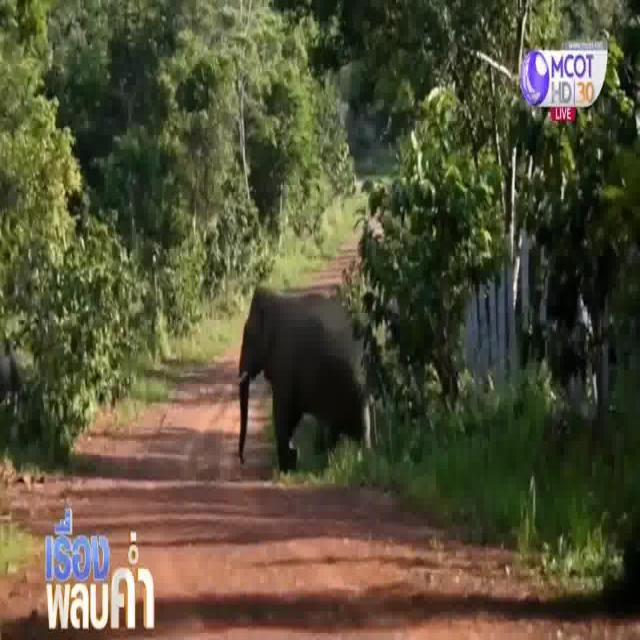Elephant: (234, 278, 341, 458)
